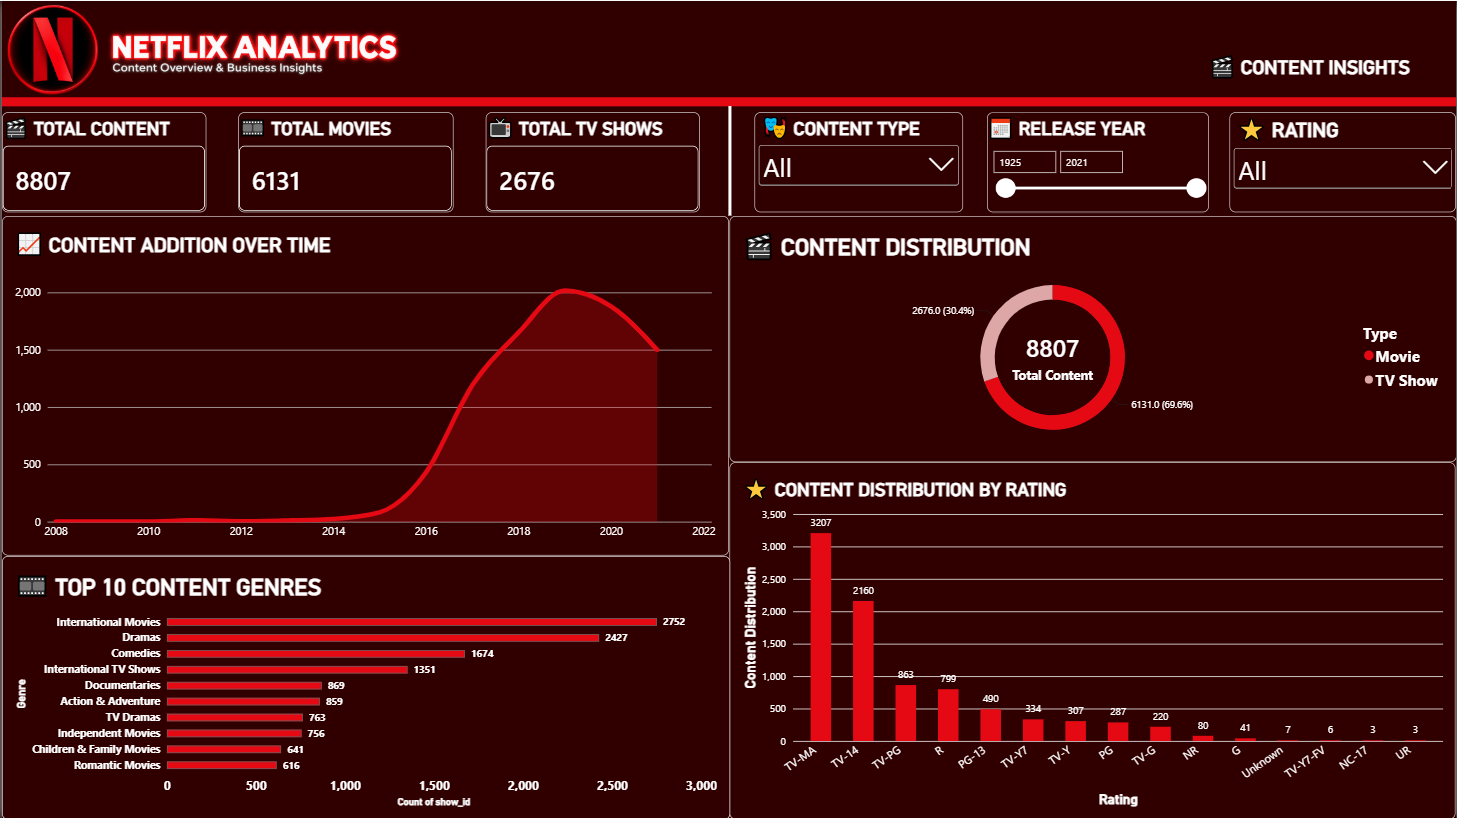

The dashboard page shown, as its layout file describes it:
{"tool":"powerbi","page":{"name":"Page 1","canvas":[1920,1080],"ordinal":0},"visuals":[{"type":"shape","box":[0,126.8,1920,12],"z":0},{"type":"image","box":[82.1,0,501.8,133.9],"z":1000},{"type":"cardVisual","title":"🎬 TOTAL CONTENT","fields":{"Data":["Count(public netflix_titles.show_id)"]},"box":[0,146.4,269.6,132.1],"z":2000},{"type":"cardVisual","title":"🎞️ TOTAL MOVIES","fields":{"Data":["public netflix_titles.Total Movies"]},"box":[312.5,146.4,283.9,132.1],"z":3000},{"type":"cardVisual","title":"📺 TOTAL TV SHOWS","fields":{"Data":["public netflix_titles.Total TV Shows"]},"box":[637.5,146.4,282.1,132.1],"z":4000},{"type":"donutChart","title":"🎬 CONTENT DISTRIBUTION","fields":{"Category":["public netflix_titles.type"],"Y":["CountNonNull(public netflix_titles.show_id)"]},"box":[959.3,284.3,961,324.4],"z":5000},{"type":"lineChart","title":"📈 CONTENT ADDITION OVER TIME","fields":{"Category":["public netflix_titles.added_year"],"Y":["CountNonNull(public netflix_titles.show_id)"]},"box":[0,283.9,958.9,448.2],"z":6000},{"type":"clusteredColumnChart","title":"⭐ CONTENT DISTRIBUTION BY RATING","fields":{"Category":["public netflix_titles.rating"],"Y":["CountNonNull(public netflix_titles.show_id)"]},"box":[960.7,608.9,958.9,471.4],"z":7000},{"type":"clusteredBarChart","title":"🎞️ TOP 10 CONTENT GENRES","fields":{"Category":["Netflix Genres.Genre"],"Y":["CountNonNull(Netflix Genres.show_id)"]},"box":[0,732.1,960.7,348.2],"z":8000},{"type":"slicer","title":"Content Type","fields":{"Values":["public netflix_titles.type"]},"box":[992.9,146.4,275,132.1],"z":8001},{"type":"slicer","title":"📅 RELEASE YEAR","fields":{"Values":["public netflix_titles.release_year"]},"box":[1300,146.4,292.9,132.1],"z":8002},{"type":"slicer","fields":{"Values":["public netflix_titles.rating"]},"box":[1619.7,146.4,300,132.1],"z":8003},{"type":"shape","box":[855.4,139.3,208.9,144.6],"z":8004},{"type":"image","box":[0,0,135.7,132.1],"z":8005},{"type":"textbox","title":"🎬 CONTENT INSIGHTS","box":[1591.6,66,327.9,94.2],"z":8006}]}

Visuals, with their boxes in screenshot pixels (x1, y1, x2, y2), scaled from the page's 1920x1080 canvas onto the 1457x818 screenshot:
shape: 0,96,1456,105
image: 62,0,443,101
"🎬 TOTAL CONTENT" cardVisual: 0,111,205,211
"🎞️ TOTAL MOVIES" cardVisual: 237,111,453,211
"📺 TOTAL TV SHOWS" cardVisual: 484,111,698,211
"🎬 CONTENT DISTRIBUTION" donutChart: 728,215,1456,461
"📈 CONTENT ADDITION OVER TIME" lineChart: 0,215,728,554
"⭐ CONTENT DISTRIBUTION BY RATING" clusteredColumnChart: 729,461,1456,817
"🎞️ TOP 10 CONTENT GENRES" clusteredBarChart: 0,554,729,817
"Content Type" slicer: 753,111,962,211
"📅 RELEASE YEAR" slicer: 987,111,1209,211
slicer - public netflix_titles.rating: 1229,111,1456,211
shape: 649,106,808,215
image: 0,0,103,100
"🎬 CONTENT INSIGHTS" textbox: 1208,50,1456,121
